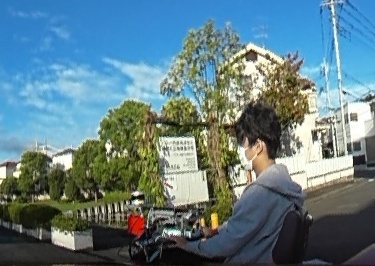person: (211, 101, 302, 266)
